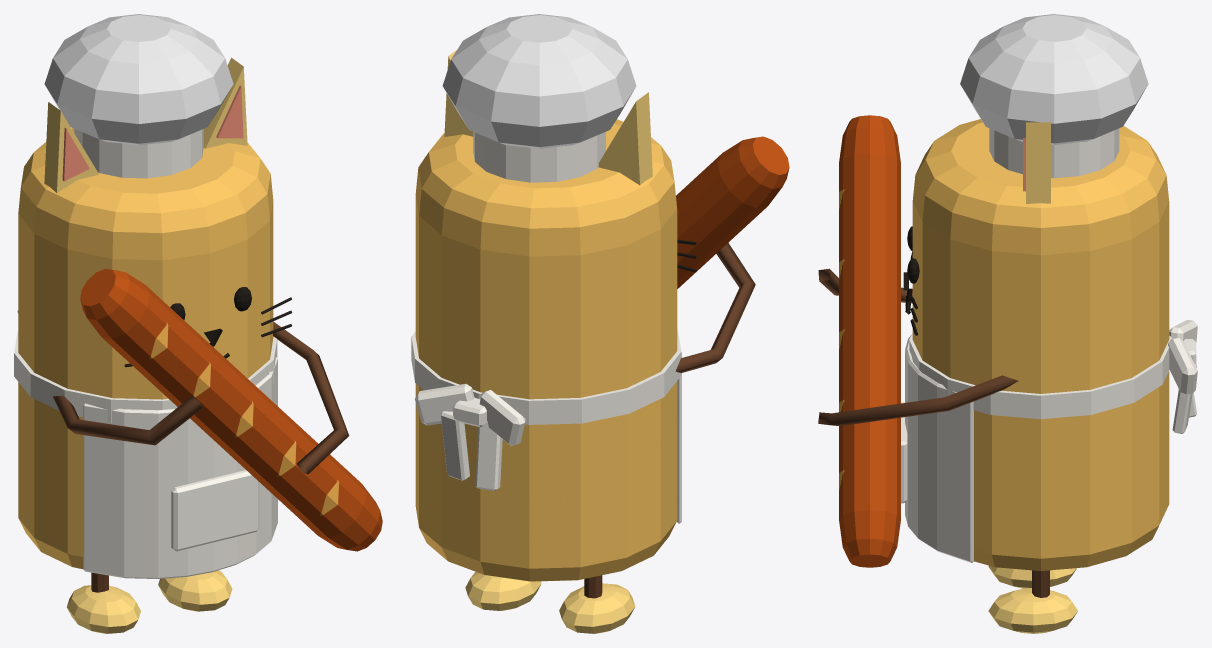
Rendered from char_baker_cat_round_xy_v11.glb.
The picture shows the model from 3 angles, left to right: view 1: azimuth 30°, elevation 25°; view 2: azimuth 150°, elevation 25°; view 3: azimuth 270°, elevation 25°; orthographic projection. The views are drawn at different scales.
Visible parts, largest first — view 1: BC3_Body_Capsule, BC3_Baguette, BC3_Apron_Front, BC3_Hat_Puff, BC3_Apron_Pocket, BC3_Hat_Band, BC3_Apron_Waistband, BC3_EarInner_L, BC3_Foot_L, BC3_Arm_L_UpperSupport, BC3_Arm_R_LowerWrap, BC3_EarInner_R (+1 smaller); view 2: BC3_Body_Capsule, BC3_Hat_Puff, BC3_Baguette, BC3_Apron_Waistband, BC3_Hat_Band, BC3_EarInner_L, BC3_Foot_L, BC3_Arm_L_UpperSupport, BC3_Foot_R, BC3_Ribbon_L, BC3_Bow_R, BC3_Ribbon_R (+4 smaller); view 3: BC3_Body_Capsule, BC3_Baguette, BC3_Hat_Puff, BC3_Apron_Front, BC3_Apron_Waistband, BC3_Hat_Band, BC3_Foot_R, BC3_Arm_R_LowerWrap, BC3_EarInner_R, BC3_Bow_R, BC3_Foot_L, BC3_Ribbon_R (+1 smaller).
Boxes of the visible parts, left/top/right/bottom form: BC3_Body_Capsule: left=18, top=128, right=273, bottom=569; BC3_Baguette: left=80, top=268, right=382, bottom=551; BC3_Apron_Front: left=83, top=357, right=277, bottom=578; BC3_Hat_Puff: left=44, top=14, right=233, bottom=145; BC3_Apron_Pocket: left=171, top=470, right=259, bottom=551; BC3_Hat_Band: left=74, top=129, right=203, bottom=178; BC3_Apron_Waistband: left=14, top=331, right=277, bottom=423; BC3_EarInner_L: left=44, top=102, right=98, bottom=192; BC3_Foot_L: left=67, top=585, right=140, bottom=633; BC3_Arm_L_UpperSupport: left=53, top=395, right=202, bottom=445; BC3_Arm_R_LowerWrap: left=273, top=321, right=349, bottom=474; BC3_EarInner_R: left=203, top=57, right=247, bottom=148; BC3_Body_Capsule: left=415, top=119, right=677, bottom=581; BC3_Hat_Puff: left=442, top=14, right=636, bottom=148; BC3_Baguette: left=676, top=136, right=789, bottom=288; BC3_Apron_Waistband: left=411, top=329, right=681, bottom=424; BC3_Hat_Band: left=473, top=132, right=605, bottom=182; BC3_EarInner_L: left=598, top=92, right=652, bottom=185; BC3_Foot_L: left=559, top=583, right=635, bottom=633; BC3_Arm_L_UpperSupport: left=675, top=243, right=755, bottom=373; BC3_Foot_R: left=465, top=571, right=541, bottom=610; BC3_Ribbon_L: left=475, top=421, right=502, bottom=490; BC3_Bow_R: left=415, top=384, right=474, bottom=425; BC3_Ribbon_R: left=440, top=411, right=469, bottom=480; BC3_Body_Capsule: left=912, top=119, right=1169, bottom=570; BC3_Baguette: left=839, top=115, right=900, bottom=567; BC3_Hat_Puff: left=960, top=14, right=1148, bottom=145; BC3_Apron_Front: left=905, top=335, right=973, bottom=562; BC3_Apron_Waistband: left=909, top=333, right=1171, bottom=419; BC3_Hat_Band: left=989, top=128, right=1119, bottom=178; BC3_Foot_R: left=988, top=588, right=1077, bottom=633; BC3_Arm_R_LowerWrap: left=818, top=375, right=1018, bottom=426; BC3_EarInner_R: left=1023, top=122, right=1050, bottom=203; BC3_Bow_R: left=1168, top=338, right=1197, bottom=395; BC3_Foot_L: left=988, top=565, right=1076, bottom=588; BC3_Ribbon_R: left=1172, top=364, right=1196, bottom=433.
Size of the model in its own units: 3.56 by 6.67 by 3.97.
Materials: 7 (1 with a texture image).
